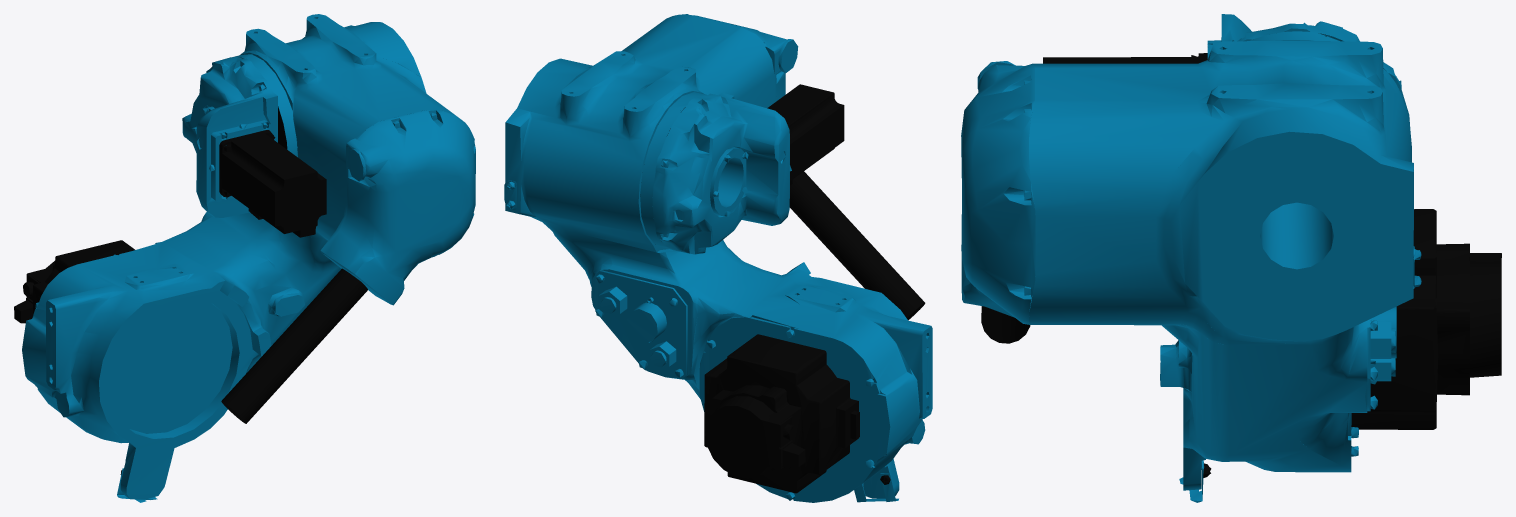
The picture shows the model from 3 angles, left to right: view 1: azimuth 30°, elevation 25°; view 2: azimuth 150°, elevation 25°; view 3: azimuth 270°, elevation 25°; orthographic projection. The views are drawn at different scales.
Visible parts, largest first — view 1: f_1-06vxh25-a0_lk3; view 2: f_1-06vxh25-a0_lk3; view 3: f_1-06vxh25-a0_lk3.
Boxes of the visible parts, bbox=[...] form: f_1-06vxh25-a0_lk3: bbox=[14, 14, 475, 502]; f_1-06vxh25-a0_lk3: bbox=[504, 14, 932, 502]; f_1-06vxh25-a0_lk3: bbox=[961, 14, 1501, 502].
Bounding box in the file's own units: 0.4101 × 0.3662 × 0.4253.
